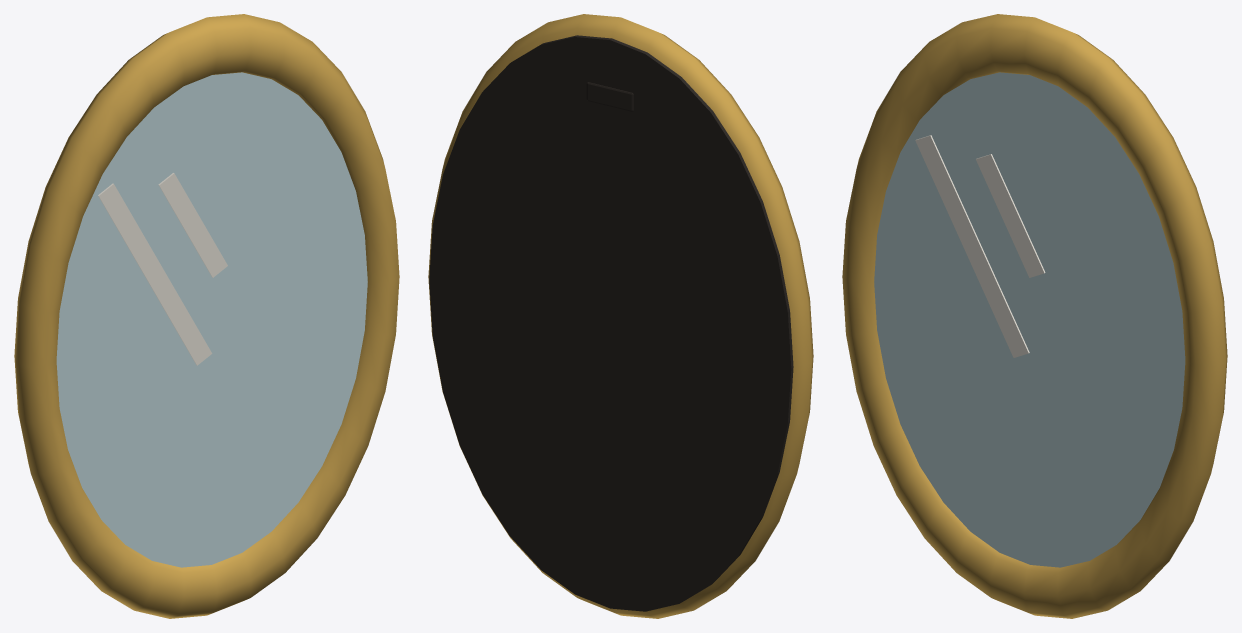
File: hh_cat_mirror_oval.glb
3 views of the same model, side by side, from view 1: azimuth 30°, elevation 25°; view 2: azimuth 150°, elevation 25°; view 3: azimuth 330°, elevation 25° (orthographic).
Parts seen in each view (by area): view 1: glass, frame, glint, glint.001; view 2: back, frame, hanger; view 3: glass, frame, glint, glint.001.
Boxes of the visible parts, x1,y1,x2,y2 form: glass: (56,72,367,567); frame: (14,14,399,618); glint: (98,183,212,365); glint.001: (158,173,227,277); back: (429,35,793,611); frame: (428,14,813,618); hanger: (586,82,633,111); glass: (874,72,1185,567); frame: (842,14,1227,618); glint: (915,135,1029,357); glint.001: (976,154,1045,277).
Size of the model in its own units: 0.4 by 0.6 by 0.04.
